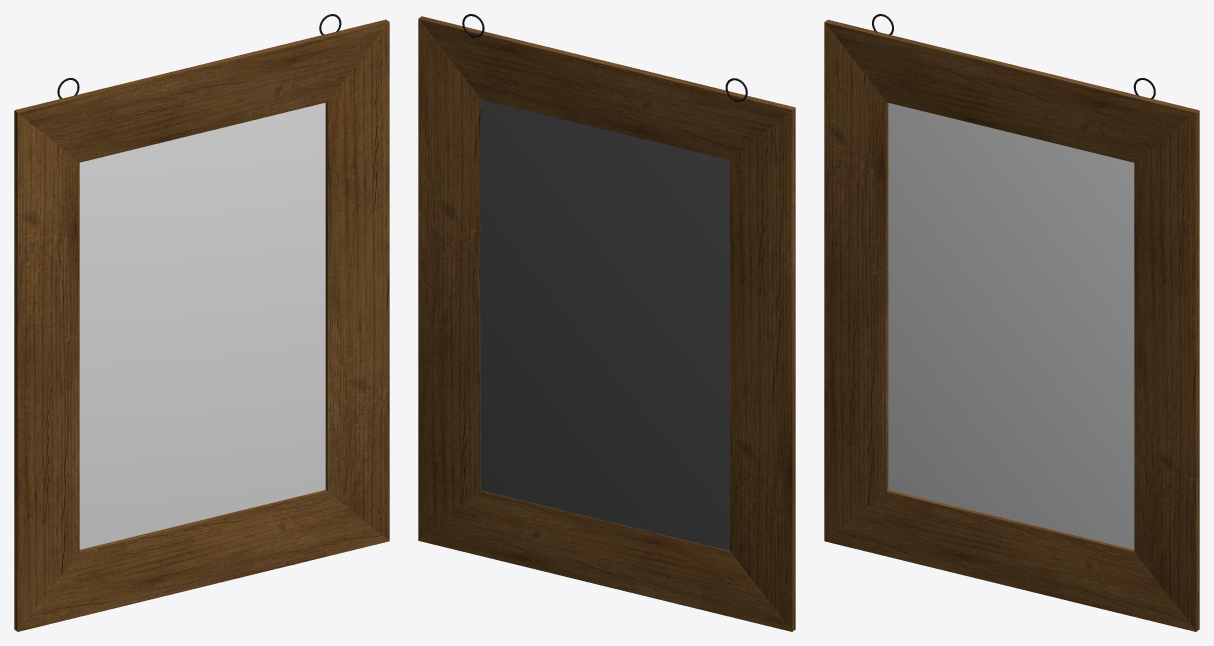
The picture shows the model from 3 angles, left to right: view 1: azimuth 30°, elevation 25°; view 2: azimuth 150°, elevation 25°; view 3: azimuth 330°, elevation 25°; orthographic projection.
Visible parts, largest first — view 1: Specchio_in_legno_di_recupero; view 2: Specchio_in_legno_di_recupero; view 3: Specchio_in_legno_di_recupero.
Boxes of the visible parts, left/top/right/bottom form: Specchio_in_legno_di_recupero: left=14, top=14, right=389, bottom=631; Specchio_in_legno_di_recupero: left=418, top=14, right=795, bottom=631; Specchio_in_legno_di_recupero: left=824, top=14, right=1199, bottom=631.
Size of the model in its own units: 0.9 by 1.24 by 0.019.
4 materials, 1 textured.
